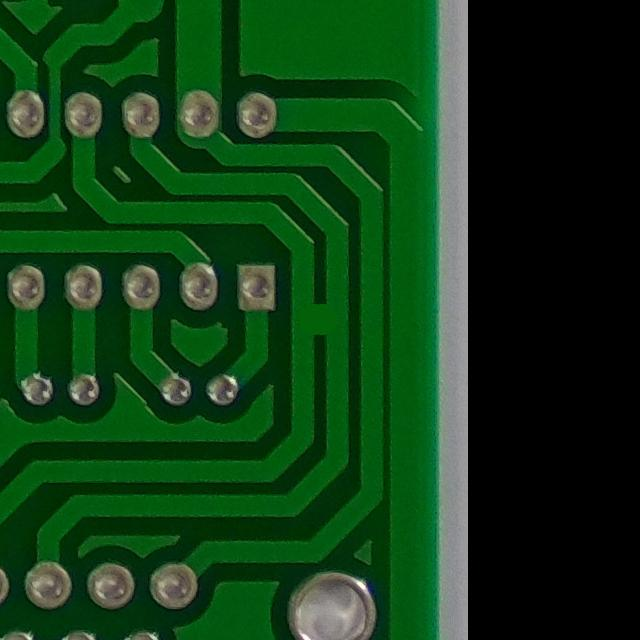short: (285, 288, 355, 353)
